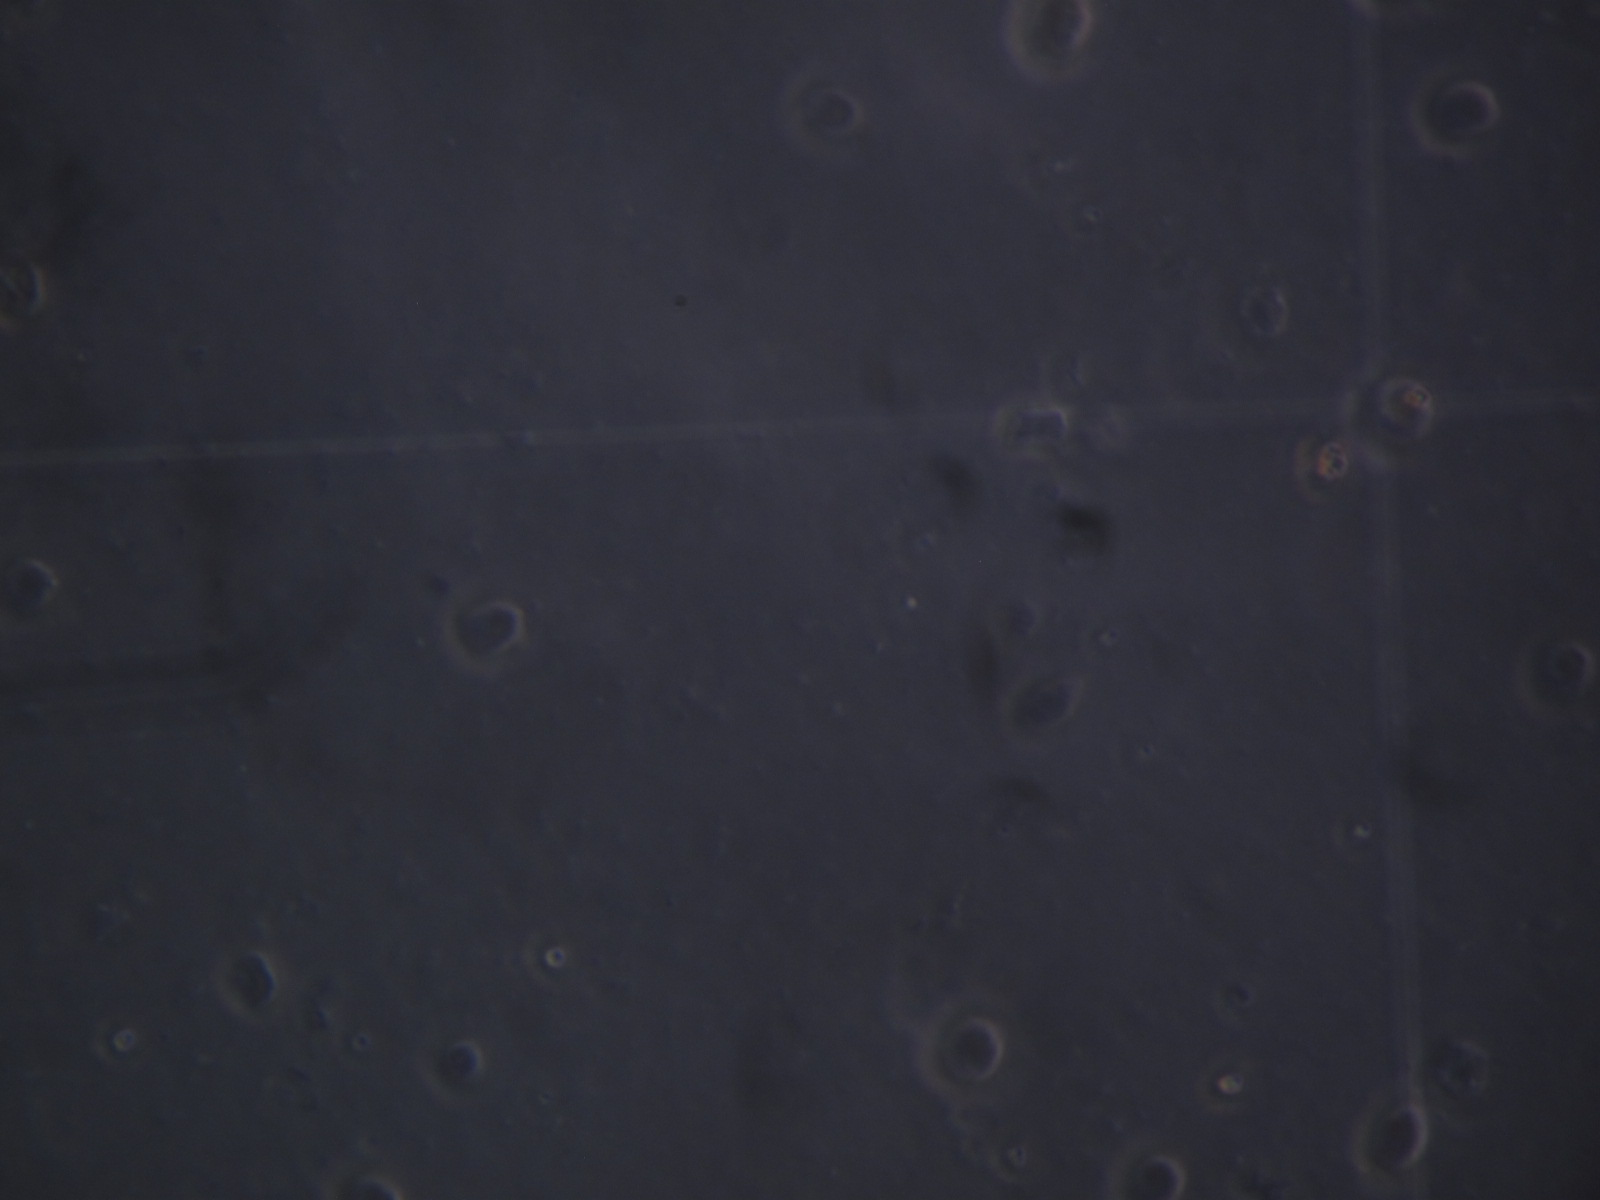hemo: (1407, 64, 1500, 160), (920, 998, 1007, 1099), (440, 579, 525, 673), (1004, 1, 1095, 86), (787, 66, 866, 160), (1351, 1089, 1430, 1176), (1, 555, 71, 639), (215, 950, 283, 1021)
